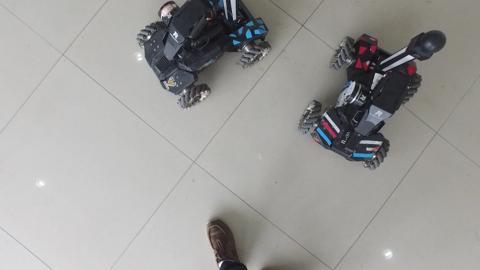chariot: (290, 24, 456, 184), (135, 1, 275, 117)
